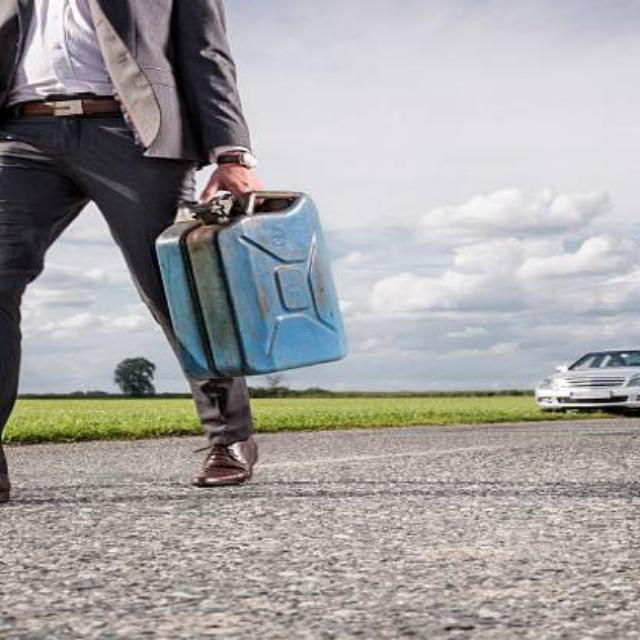chemical_plastic_gallon: (144, 195, 356, 378)
